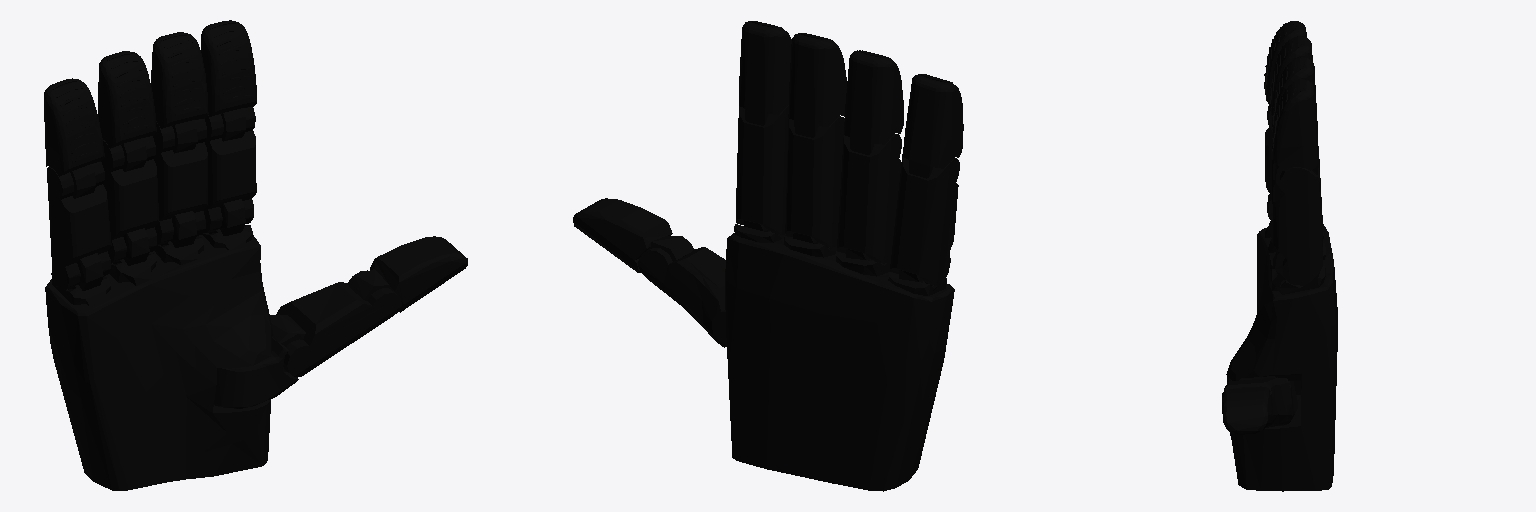
The robot description file, URDF, robot "Right_Hand_C":
<?xml version="1.0"?>
<robot name="Right_Hand_C">

<link name="base_link">
    <inertial>
      <mass value="0.168" />
      <origin xyz="0.00321 -0.00301 0.04736" />
      <inertia ixx="0.00016" ixy="0.00000" ixz="0.00002" iyy="0.00025" iyz="-0.00001" izz="0.00012" />
    </inertial>
    <visual>
      <geometry>
        <mesh filename="package://igris_c_description_public/meshes/igris_c_hand/Palm_Right.stl" scale="0.01 0.01 0.01"/>
      </geometry>
      <material name="random">
        <color rgba="0.0706 0.0706 0.0706 0.7" />
      </material>
    </visual>
    <collision>
      <geometry>
        <mesh filename="package://igris_c_description_public/meshes/igris_c_hand/Palm_Right.stl" scale="0.01 0.01 0.01"/>
      </geometry>
    </collision>
  </link>

<link name="Link_Thumb_Proximal">
    <inertial>
      <mass value="0.018" />
      <origin xyz="0.00704 -0.00006 0.01031" />
      <inertia ixx="0.00001" ixy="0.00000" ixz="0.00000" iyy="0.00001" iyz="0.00000" izz="0.00001" />
    </inertial>
    <visual> 
      <geometry>
        <mesh filename="package://igris_c_description_public/meshes/igris_c_hand/Thumb_Proximal_Right.stl" scale="0.01 0.01 0.01"/>
      </geometry>
      <material name="random">
        <color rgba="0.0706 0.0706 0.0706 0.7" />
      </material>
    </visual>
    <collision>
      <geometry>
        <mesh filename="package://igris_c_description_public/meshes/igris_c_hand/Thumb_Proximal_Right.stl" scale="0.01 0.01 0.01"/>
      </geometry>
    </collision>
  </link>

  <link name="Link_Thumb_Middle">
    <inertial>
      <mass value="0.019" />
      <origin xyz="-0.00154 0.00041 0.01911" />
      <inertia ixx="0.00001" ixy="0.00000" ixz="0.00000" iyy="0.00001" iyz="0.00000" izz="0.00001" />
    </inertial>
    <visual>
      <geometry>
        <mesh filename="package://igris_c_description_public/meshes/igris_c_hand/Thumb_Middle_Right.stl" scale="0.01 0.01 0.01"/>
      </geometry>
      <material name="random">
        <color rgba="0.0706 0.0706 0.0706 0.7" />
      </material>
    </visual>
    <collision>
      <geometry>
        <mesh filename="package://igris_c_description_public/meshes/igris_c_hand/Thumb_Middle_Right.stl" scale="0.01 0.01 0.01"/>
      </geometry>
    </collision>
  </link>

  <link name="Link_Thumb_Distal">
    <inertial>
      <mass value="0.011" />
      <origin xyz="-0.00015 -0.00047 0.01843" />
      <inertia ixx="0.00001" ixy="0.00000" ixz="0.00000" iyy="0.00001" iyz="0.00000" izz="0.00001" />
    </inertial>
    <visual>
      <geometry>
        <mesh filename="package://igris_c_description_public/meshes/igris_c_hand/Thumb_Distal_Right.stl" scale="0.01 0.01 0.01"/>
      </geometry>
      <material name="random">
        <color rgba="0.0706 0.0706 0.0706 0.7" />
      </material>
    </visual>
    <collision>
      <geometry>
        <mesh filename="package://igris_c_description_public/meshes/igris_c_hand/Thumb_Distal_Right.stl" scale="0.01 0.01 0.01"/>
      </geometry>
    </collision>
  </link>

  <link name="Link_Index_Middle">
    <inertial>
      <mass value="0.018" />
      <origin xyz="0.00010 0.00031 0.02005" />
      <inertia ixx="0.00001" ixy="0.00000" ixz="0.00000" iyy="0.00001" iyz="0.00000" izz="0.00001" />
    </inertial>
    <visual>
      <geometry>
        <mesh filename="package://igris_c_description_public/meshes/igris_c_hand/Finger_Middle.stl" scale="0.01 0.01 0.01"/>
      </geometry>
      <material name="random">
        <color rgba="0.0706 0.0706 0.0706 0.7" />
      </material>
    </visual>
    <collision>
      <geometry>
        <mesh filename="package://igris_c_description_public/meshes/igris_c_hand/Finger_Middle.stl" scale="0.01 0.01 0.01"/>
      </geometry>
    </collision>
  </link>

   <link name="Link_Middle_Middle">
    <inertial>
      <mass value="0.018" />
      <origin xyz="0.00010 0.00031 0.02005" />
      <inertia ixx="0.00001" ixy="0.00000" ixz="0.00000" iyy="0.00001" iyz="0.00000" izz="0.00001" />
    </inertial>
    <visual>
      <geometry>
        <mesh filename="package://igris_c_description_public/meshes/igris_c_hand/Finger_Middle.stl" scale="0.01 0.01 0.01"/>
      </geometry>
      <material name="random">
        <color rgba="0.0706 0.0706 0.0706 0.7" />
      </material>
    </visual>
    <collision>
      <geometry>
        <mesh filename="package://igris_c_description_public/meshes/igris_c_hand/Finger_Middle.stl" scale="0.01 0.01 0.01"/>
      </geometry>
    </collision>
  </link>

<link name="Link_Ring_Middle">
    <inertial>
      <mass value="0.018" />
      <origin xyz="0.00010 0.00031 0.02005" />
      <inertia ixx="0.00001" ixy="0.00000" ixz="0.00000" iyy="0.00001" iyz="0.00000" izz="0.00001" />
    </inertial>
    <visual>
      <geometry>
        <mesh filename="package://igris_c_description_public/meshes/igris_c_hand/Finger_Middle.stl" scale="0.01 0.01 0.01"/>
      </geometry>
      <material name="random">
        <color rgba="0.0706 0.0706 0.0706 0.7" />
      </material>
    </visual>
    <collision>
      <geometry>
        <mesh filename="package://igris_c_description_public/meshes/igris_c_hand/Finger_Middle.stl" scale="0.01 0.01 0.01"/>
      </geometry>
    </collision>
  </link>

 <link name="Link_Little_Middle">
    <inertial>
      <mass value="0.018" />
      <origin xyz="0.00010 0.00031 0.02005" />
      <inertia ixx="0.00001" ixy="0.00000" ixz="0.00000" iyy="0.00001" iyz="0.00000" izz="0.00001" />
    </inertial>
    <visual>
      <geometry>
        <mesh filename="package://igris_c_description_public/meshes/igris_c_hand/Finger_Middle.stl" scale="0.01 0.01 0.01"/>
      </geometry>
      <material name="random">
        <color rgba="0.0706 0.0706 0.0706 0.7" />
      </material>
    </visual>
    <collision>
      <geometry>
        <mesh filename="package://igris_c_description_public/meshes/igris_c_hand/Finger_Middle.stl" scale="0.01 0.01 0.01"/>
      </geometry>
    </collision>
  </link>

 <link name="Link_Index_Distal">
    <inertial>
      <mass value="0.012" />
      <origin xyz="0.00013 -0.00035 0.01857" />
      <inertia ixx="0.00001" ixy="0.00000" ixz="0.00000" iyy="0.00001" iyz="0.00000" izz="0.00001" />
    </inertial>
    <visual>
      <geometry>
        <mesh filename="package://igris_c_description_public/meshes/igris_c_hand/Finger_Distal.stl" scale="0.01 0.01 0.01"/>
      </geometry>
      <material name="random">
        <color rgba="0.0706 0.0706 0.0706 0.7" />
      </material>
    </visual>
    <collision>
      <geometry>
        <mesh filename="package://igris_c_description_public/meshes/igris_c_hand/Finger_Distal.stl" scale="0.01 0.01 0.01"/>
      </geometry>
    </collision>
  </link>

  <link name="Link_Middle_Distal">
    <inertial>
      <mass value="0.012" />
      <origin xyz="0.00013 -0.00035 0.01857" />
      <inertia ixx="0.00001" ixy="0.00000" ixz="0.00000" iyy="0.00001" iyz="0.00000" izz="0.00001" />
    </inertial>
    <visual>
      <geometry>
        <mesh filename="package://igris_c_description_public/meshes/igris_c_hand/Finger_Distal.stl" scale="0.01 0.01 0.01"/>
      </geometry>
      <material name="random">
        <color rgba="0.0706 0.0706 0.0706 0.7" />
      </material>
    </visual>
    <collision>
      <geometry>
        <mesh filename="package://igris_c_description_public/meshes/igris_c_hand/Finger_Distal.stl" scale="0.01 0.01 0.01"/>
      </geometry>
    </collision>
  </link>

    <link name="Link_Ring_Distal">
    <inertial>
      <mass value="0.012" />
      <origin xyz="0.00013 -0.00035 0.01857" />
      <inertia ixx="0.00001" ixy="0.00000" ixz="0.00000" iyy="0.00001" iyz="0.00000" izz="0.00001" />
    </inertial>
    <visual>
      <geometry>
        <mesh filename="package://igris_c_description_public/meshes/igris_c_hand/Finger_Distal.stl" scale="0.01 0.01 0.01"/>
      </geometry>
      <material name="random">
        <color rgba="0.0706 0.0706 0.0706 0.7" />
      </material>
    </visual>
    <collision>
      <geometry>
        <mesh filename="package://igris_c_description_public/meshes/igris_c_hand/Finger_Distal.stl" scale="0.01 0.01 0.01"/>
      </geometry>
    </collision>
  </link>

   <link name="Link_Little_Distal">
    <inertial>
      <mass value="0.012" />
      <origin xyz="0.00013 -0.00035 0.01857" />
      <inertia ixx="0.00001" ixy="0.00000" ixz="0.00000" iyy="0.00001" iyz="0.00000" izz="0.00001" />
    </inertial>
    <visual>
      <geometry>
        <mesh filename="package://igris_c_description_public/meshes/igris_c_hand/Finger_Distal.stl" scale="0.01 0.01 0.01"/>
      </geometry>
      <material name="random">
        <color rgba="0.0706 0.0706 0.0706 0.7" />
      </material>
    </visual>
    <collision>
      <geometry>
        <mesh filename="package://igris_c_description_public/meshes/igris_c_hand/Finger_Distal.stl" scale="0.01 0.01 0.01"/>
      </geometry>
    </collision>
  </link>


  <!-- <link name="Link_">
    <inertial>
      <mass value="" />
      <origin xyz=" " />
      <inertia ixx="0.00001" ixy="0.00000" ixz="0.00000" iyy="0.00001" iyz="0.00000" izz="0.00001" />
    </inertial>
    <visual>
      <geometry>
        <mesh filename="package://igris_c_description_public/meshes/igris_c_hand/.stl" scale="0.01 0.01 0.01"/>
      </geometry>
      <material name="random">
        <color rgba="0.0706 0.0706 0.0706 0.7" />
      </material>
    </visual>
    <collision>
      <geometry>
        <mesh filename="package://igris_c_description_public/meshes/igris_c_hand/.stl" scale="0.01 0.01 0.01"/>
      </geometry>
    </collision>
  </link> -->


  <joint name="0_Joint_Thumb_Proximal" type="revolute">
    <parent link="base_link" />
    <child link="Link_Thumb_Proximal" />
    <origin xyz="0.026 -0.0132 0.0299" rpy="0.08726646 0 0" />
    <axis xyz="0 0 1" />
    <limit lower="-1.727875959" upper="0" effort="1000" velocity="5.0" />
  </joint>
 
  <joint name="1_Joint_Thumb_Middle" type="revolute">
    <parent link="Link_Thumb_Proximal" />
    <child link="Link_Thumb_Middle" />
    <origin xyz="0.0230 -0.0035 0.015" rpy="-1.22173048 0 -1.57079633" />
    <axis xyz="1 0 0" />
    <limit lower="0" upper="1.221730476" effort="1000" velocity="5.0" />
  </joint>

  <joint name="2_Joint_Thumb_Distal" type="revolute">
    <parent link="Link_Thumb_Middle" />
    <child link="Link_Thumb_Distal" />
    <origin xyz="0 -0.001 0.04" rpy="0 0 0" />
    <axis xyz="1 0 0" />
    <limit lower="0" upper="1.570796327" effort="1000" velocity="5.0" />
  </joint>

  <joint name="3_Joint_Index_Middle" type="revolute">
    <parent link="base_link" />
    <child link="Link_Index_Middle" />
    <origin xyz="0.0305 0.002 0.101 " rpy="0 0 0" />
    <axis xyz="1 0 0" />
    <limit lower="0" upper="1.570796327" effort="1000" velocity="5.0" />
  </joint>

  <joint name="4_Joint_Index_Distal" type="revolute">
    <parent link="Link_Index_Middle" />
    <child link="Link_Index_Distal" />
    <origin xyz="0 -0.001 0.04" rpy="0 0 0" />
    <axis xyz="1 0 0" />
    <limit lower="0" upper="1.570796327" effort="1000" velocity="5.0" />
  </joint>

  <joint name="5_Joint_Middle_Middle" type="revolute">
    <parent link="base_link" />
    <child link="Link_Middle_Middle" />
    <origin xyz="0.0085 0.002 0.101" rpy="0 0 0" />
    <axis xyz="1 0 0" />
    <limit lower="0" upper="1.570796327" effort="1000" velocity="5.0" />
  </joint>

  <joint name="6_Joint_Middle_Distal" type="revolute">
    <parent link="Link_Middle_Middle" />
    <child link="Link_Middle_Distal" />
    <origin xyz="0 -0.001 0.04" rpy="0 0 0" />
    <axis xyz="1 0 0" />
    <limit lower="0" upper="1.570796327" effort="1000" velocity="5.0" />
  </joint>

  <joint name="7_Joint_Ring_Middle" type="revolute">
    <parent link="base_link" />
    <child link="Link_Ring_Middle" />
    <origin xyz="-0.0139 0.0010 0.0990" rpy="-0.00121872 -0.03488531 0.03492784" />
    <axis xyz="1 0 0" />
    <limit lower="0" upper="1.570796327" effort="1000" velocity="5.0" />
  </joint>

  <joint name="8_Joint_Ring_Distal" type="revolute">
    <parent link="Link_Ring_Middle" />
    <child link="Link_Ring_Distal" />
    <origin xyz="0 -0.001 0.04" rpy="0 0 0" />
    <axis xyz="1 0 0" />
    <limit lower="0" upper="1.570796327" effort="1000" velocity="5.0" />
  </joint>

  <joint name="9_Joint_Little_Middle" type="revolute">
    <parent link="base_link" />
    <child link="Link_Little_Middle" />
    <origin xyz="-0.0362 -0.0012 0.0942" rpy="-0.00274895 -0.08721049 0.05251174" />
    <axis xyz="1 0 0" />
    <limit lower="0" upper="1.570796327" effort="1000" velocity="5.0" />
  </joint>

  <joint name="10_Joint_Little_Distal" type="revolute">
    <parent link="Link_Little_Middle" />
    <child link="Link_Little_Distal" />
    <origin xyz="0 -0.001 0.04" rpy="0 0 0" />
    <axis xyz="1 0 0" />
    <limit lower="0" upper="1.570796327" effort="1000" velocity="5.0" />
  </joint>


  <!-- <joint name="Joint_" type="revolute">
    <parent link="Link_" />
    <child link="Link_" />
    <origin xyz=" " rpy="0 0 0" />
    <axis xyz=" " />
    <limit lower="-1.570796327" upper="1.570796327" effort="1000" velocity="5.0" />
  </joint> -->
  

</robot>

--- What the picture shows (computed from the rendered views, not written in the file) ---
Views: 3 orthographic renders of the robot side by side, from view 1: azimuth 30°, elevation 25°; view 2: azimuth 150°, elevation 25°; view 3: azimuth 270°, elevation 25°.
Robot: Right_Hand_C — 12 links, 11 joints (11 revolute); root link base_link; default pose: all joints at 0.
Visible links, largest first — view 1: base_link, Link_Thumb_Middle, Link_Little_Middle, Link_Little_Distal, Link_Ring_Distal, Link_Middle_Distal, Link_Index_Distal, Link_Thumb_Distal, Link_Middle_Middle, Link_Ring_Middle, Link_Index_Middle, Link_Thumb_Proximal; view 2: base_link, Link_Little_Middle, Link_Ring_Middle, Link_Middle_Middle, Link_Index_Middle, Link_Ring_Distal, Link_Little_Distal, Link_Middle_Distal, Link_Thumb_Middle, Link_Index_Distal, Link_Thumb_Distal; view 3: base_link, Link_Index_Middle, Link_Index_Distal, Link_Thumb_Distal, Link_Thumb_Middle, Link_Little_Distal, Link_Middle_Distal, Link_Ring_Distal.
Link boxes in pixels (x1,y1,x2,y2): base_link: (45, 199, 272, 490); Link_Thumb_Middle: (270, 270, 401, 376); Link_Little_Middle: (47, 162, 111, 289); Link_Little_Distal: (44, 78, 104, 198); Link_Ring_Distal: (98, 51, 156, 171); Link_Middle_Distal: (151, 32, 208, 153); Link_Index_Distal: (201, 20, 256, 141); Link_Thumb_Distal: (349, 236, 467, 312); Link_Middle_Middle: (153, 119, 207, 244); Link_Ring_Middle: (101, 136, 158, 263); Link_Index_Middle: (203, 107, 256, 232); Link_Thumb_Proximal: (214, 314, 305, 408); base_link: (725, 220, 954, 491); Link_Little_Middle: (890, 154, 959, 285); Link_Ring_Middle: (837, 134, 901, 263); Link_Middle_Middle: (785, 116, 844, 246); Link_Index_Middle: (736, 105, 788, 234); Link_Ring_Distal: (844, 50, 903, 154); Link_Little_Distal: (903, 74, 963, 178); Link_Middle_Distal: (788, 33, 846, 137); Link_Thumb_Middle: (638, 236, 726, 347); Link_Index_Distal: (739, 21, 791, 125); Link_Thumb_Distal: (573, 198, 691, 272); base_link: (1226, 194, 1337, 491); Link_Index_Middle: (1273, 167, 1322, 285); Link_Index_Distal: (1272, 79, 1317, 190); Link_Thumb_Distal: (1222, 386, 1271, 434); Link_Thumb_Middle: (1224, 377, 1293, 427); Link_Little_Distal: (1264, 21, 1306, 131); Link_Middle_Distal: (1272, 57, 1317, 143); Link_Ring_Distal: (1269, 36, 1312, 115).
Size in the robot's own frame: 0.1776 by 0.0479 by 0.1813 metres.
12 mesh visuals loaded from 6 distinct referenced files (6 binary STL).